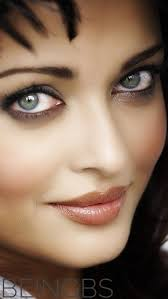indian_female: (1, 34, 167, 258)
